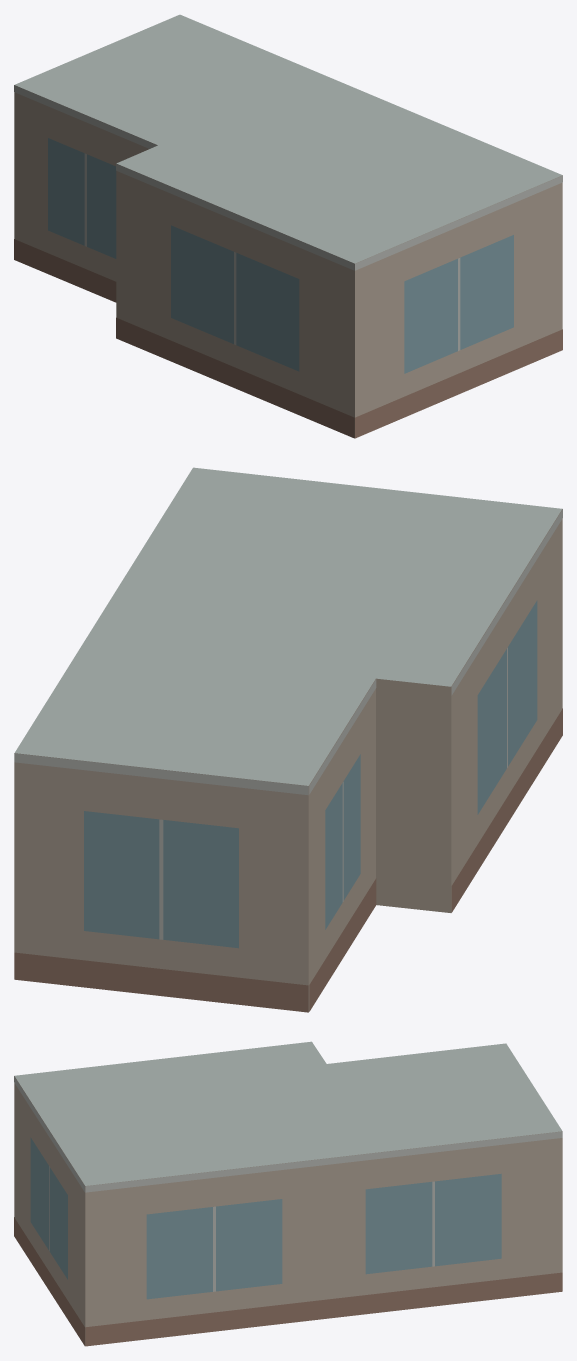
The model's file is survey-upis-32694395.glb.
3 renders of one model, top to bottom at view 1: azimuth 30°, elevation 25°; view 2: azimuth 150°, elevation 25°; view 3: azimuth 270°, elevation 25°, orthographic. The views are drawn at different scales.
Visible parts, largest first — view 1: survey-upis-32694395.tmp; view 2: survey-upis-32694395.tmp; view 3: survey-upis-32694395.tmp.
Boxes of the visible parts, left/top/right/bottom form: survey-upis-32694395.tmp: left=14, top=14, right=562, bottom=438; survey-upis-32694395.tmp: left=14, top=467, right=562, bottom=1012; survey-upis-32694395.tmp: left=14, top=1041, right=562, bottom=1346.
Size of the model in its own units: 5.91 by 3.05 by 9.47.
